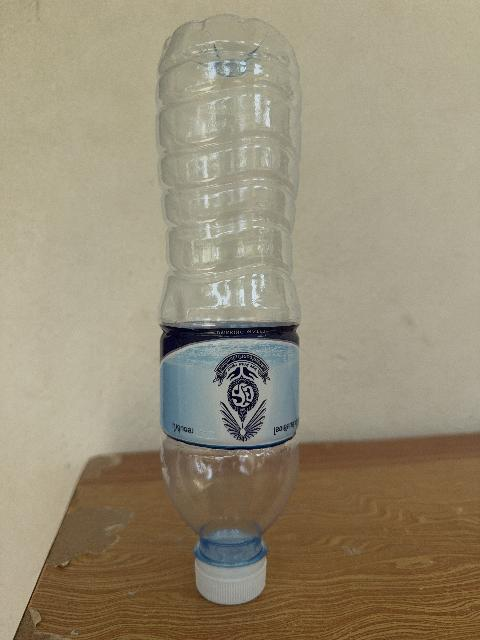bottle: (156, 15, 299, 603)
